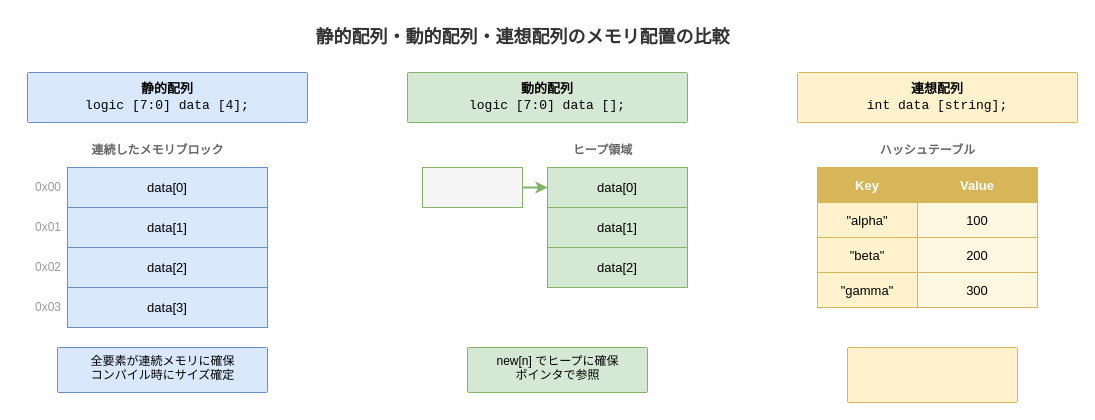
The diagram is 1095 pixels wide and 420 high, and some of its shapes have lost their labels. Here are the shapes that lost their labels. From the top down, the box of each, then its label:
(422, 166, 522, 208): ポインタ
(846, 346, 1018, 402): キーでハッシュ計算 スパースデータに最適 メモリ効率が良い
